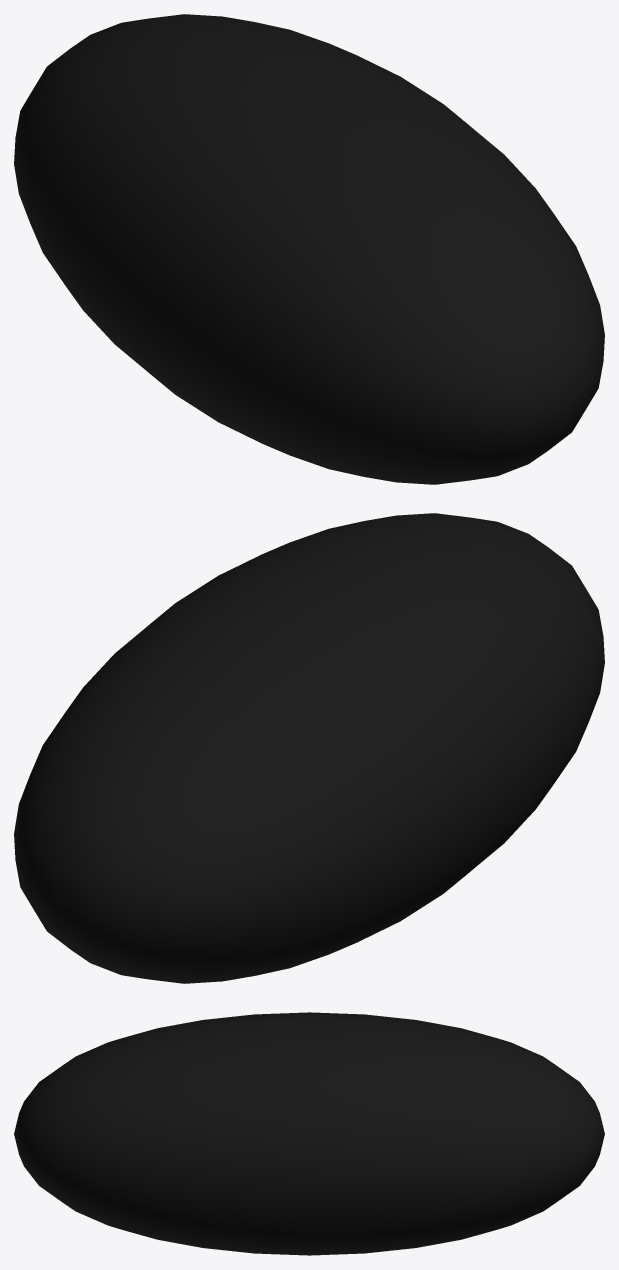
The model's file is mur-cuerpo.obj.
The picture shows the model from 3 angles, top to bottom: view 1: azimuth 30°, elevation 25°; view 2: azimuth 150°, elevation 25°; view 3: azimuth 270°, elevation 25°; orthographic projection. The views are drawn at different scales.
Visible parts, largest first — view 1: cuerpo; view 2: cuerpo; view 3: cuerpo.
Part boxes in pixels (x1,y1,x2,y2): cuerpo: [14, 14, 604, 484]; cuerpo: [14, 513, 604, 983]; cuerpo: [14, 1012, 604, 1255].
Bounding box in the file's own units: 2.09 × 1.68 × 4.36.
Materials: 1 (1 with a texture image).
